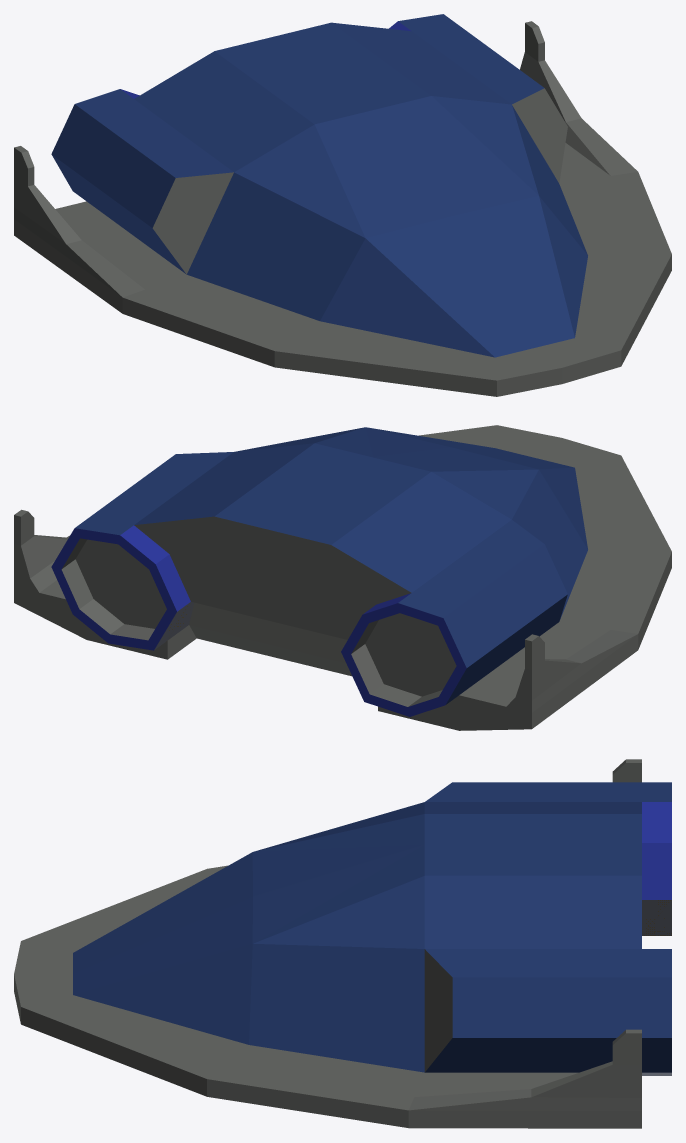
The model's file is husky.glb.
The picture shows the model from 3 angles, top to bottom: view 1: azimuth 30°, elevation 25°; view 2: azimuth 150°, elevation 25°; view 3: azimuth 270°, elevation 25°; orthographic projection. The views are drawn at different scales.
Visible parts, largest first — view 1: Husky; view 2: Husky; view 3: Husky.
Part boxes in pixels (x1,y1,x2,y2): Husky: (14, 14, 671, 396); Husky: (14, 425, 671, 730); Husky: (14, 759, 671, 1128).
Size of the model in its own units: 5.97 by 1.7 by 6.06.
Materials: 1 (1 with a texture image).
